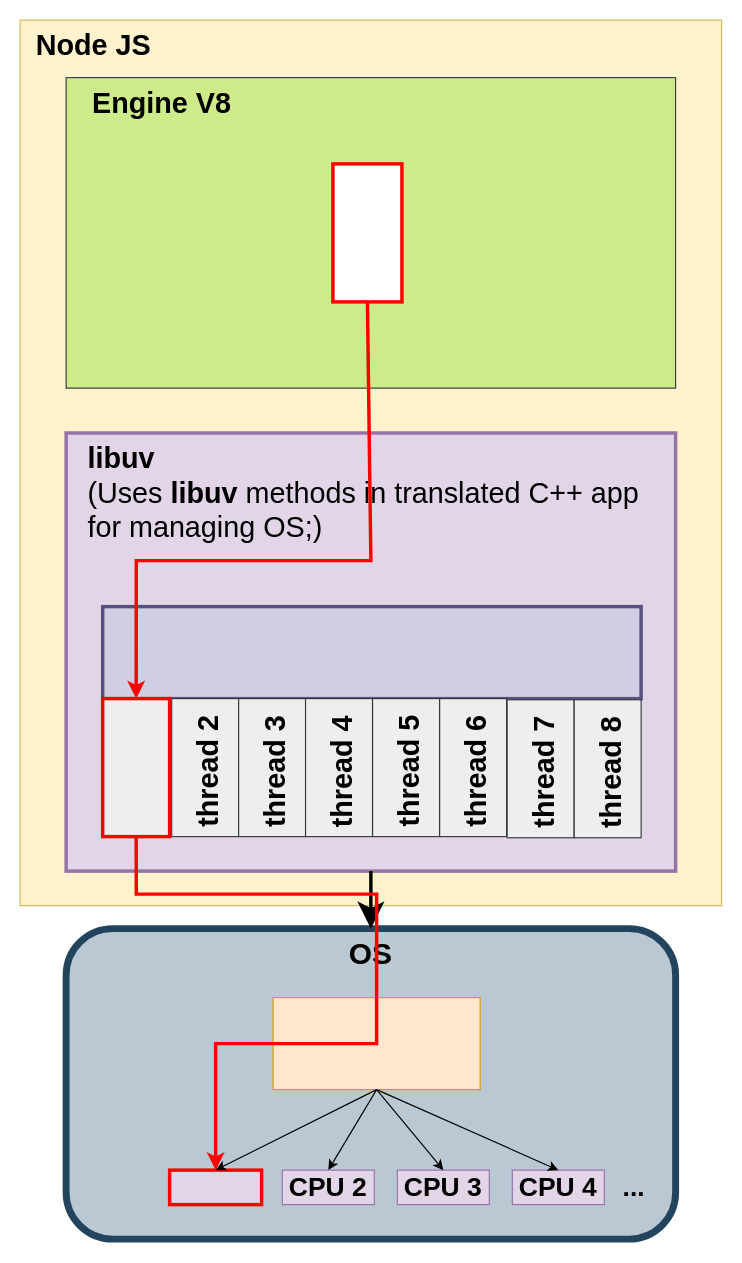
Image size: 742x1263. Some labels were removed from this diagram. The centre of each missing label's shape, as x and y in pixels:
code execution 1: the point at 367,232
CPU 1: the point at 215,1187
OS scheduler (balancer): the point at 376,1043
thread 1: the point at 135,767
Thread pool: the point at 371,652
